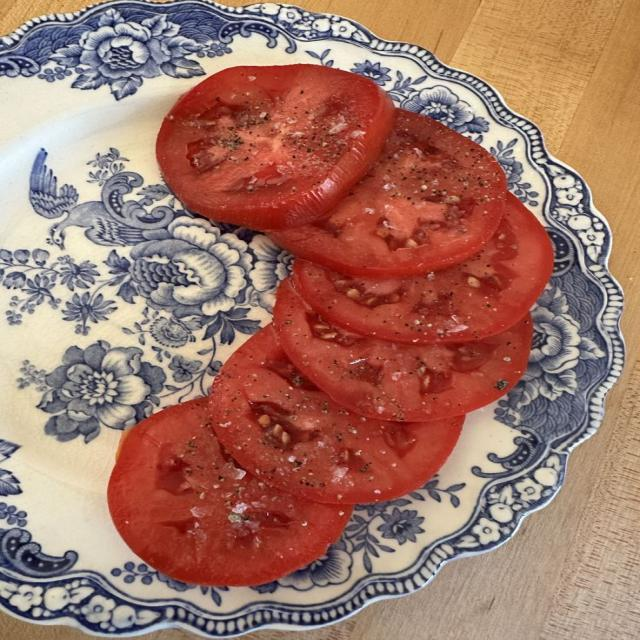sliced_tomato: (108, 398, 350, 585), (211, 325, 463, 503), (157, 64, 395, 230), (271, 110, 506, 277), (294, 195, 553, 343), (274, 279, 532, 421)
